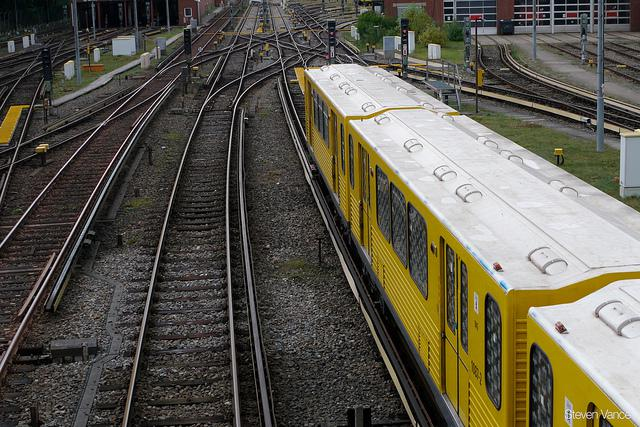Train: (305, 63, 640, 424)
